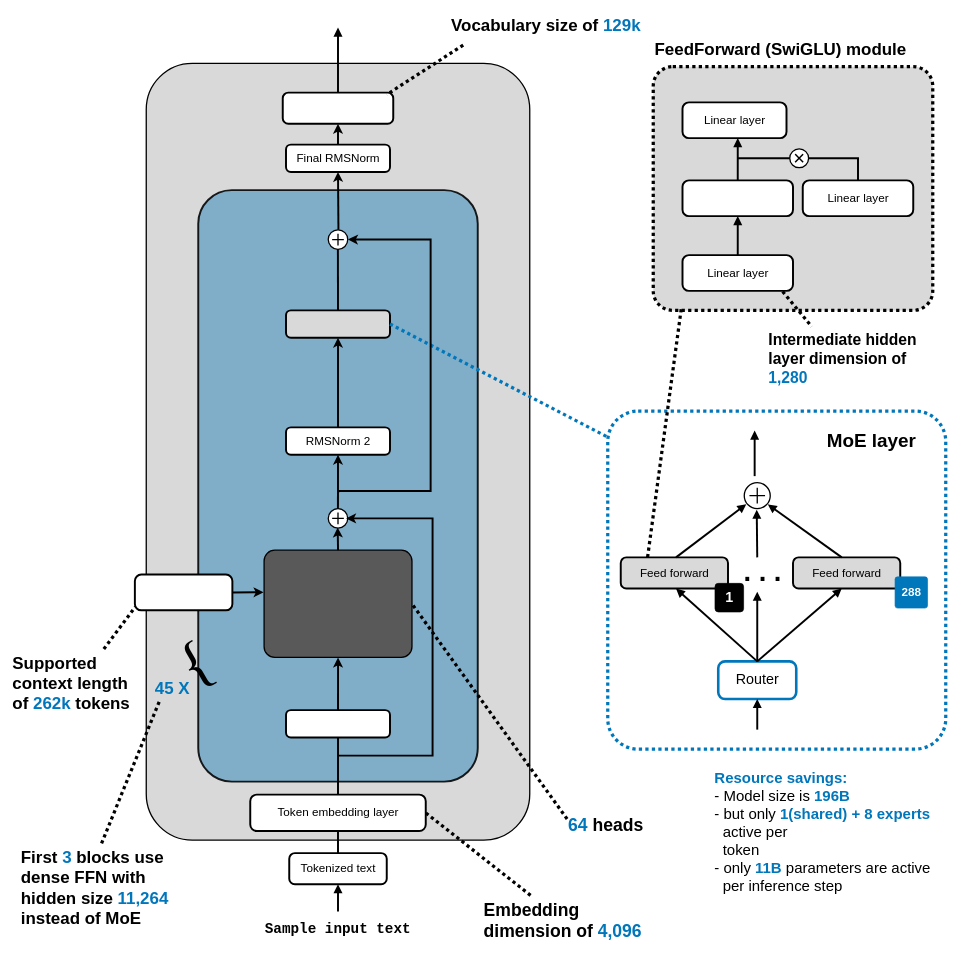
This 963x965 diagram has some shape labels left out. The centre of each missing label's shape, as x and y in pixels:
"Groped-query Attention( GQA ) + Sliding Window Attention ( SWA ) in 3:1 ratio" belongs at point 337,603.
"Linear output layer" belongs at point 337,107.
"MoE" belongs at point 338,323.
"RMSNorm 1" belongs at point 338,723.
"RoPE" belongs at point 183,592.
"SiLU activation" belongs at point 737,198.
